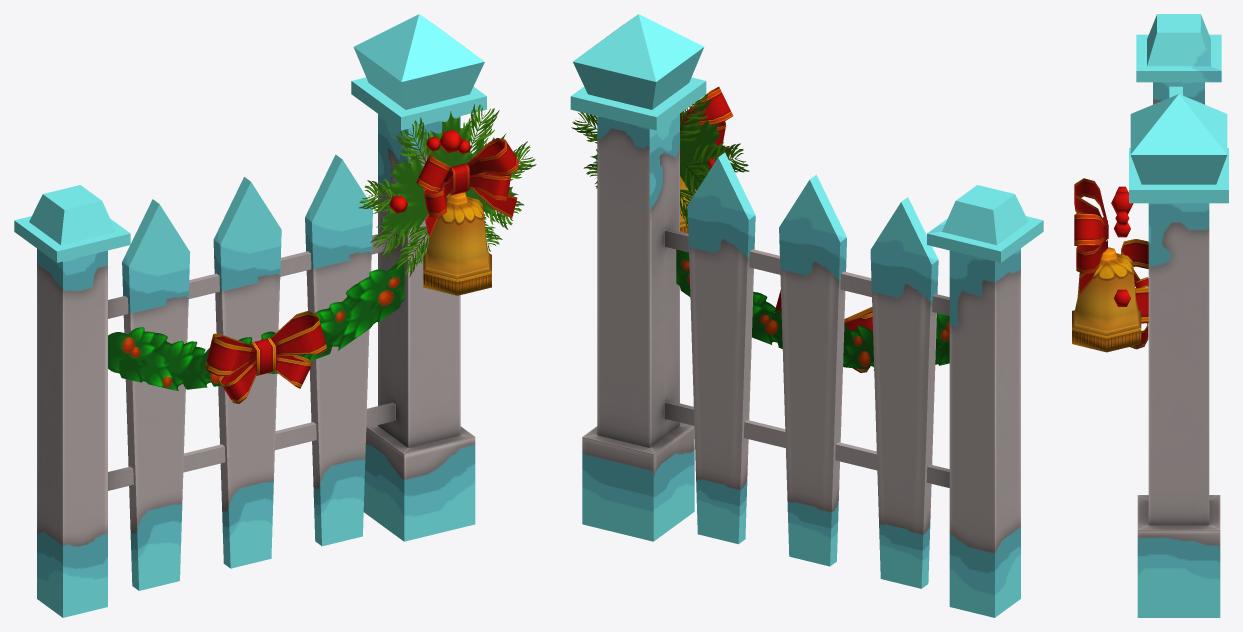
The model's file is Fence(Decorated).FBX.
3 views of the same model, side by side, from view 1: azimuth 30°, elevation 25°; view 2: azimuth 150°, elevation 25°; view 3: azimuth 270°, elevation 25° (orthographic).
Parts seen in each view (by area): view 1: Box040, Object394, Object395, Object396; view 2: Box040, Object394, Object395; view 3: Box040, Object394, Object396.
Boxes of the visible parts, x1,y1,x2,y2 form: Box040: (14,14,486,617); Object394: (358,104,536,295); Object395: (108,262,404,390); Object396: (205,311,327,403); Box040: (570,14,1043,617); Object394: (571,86,749,233); Object395: (676,249,949,370); Box040: (1129,14,1228,617); Object394: (1072,178,1141,352); Object396: (1121,239,1148,349).
Size of the model in its own units: 55.02 by 55.37 by 15.52.
4 materials, 4 textured.
